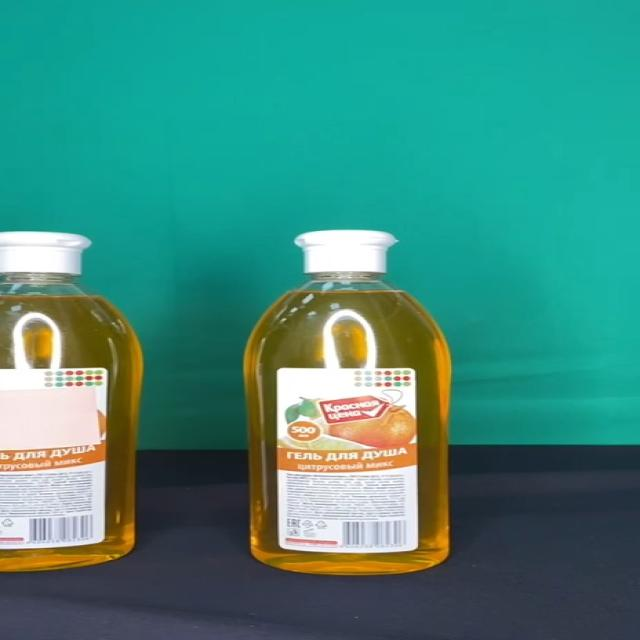Bottle: (241, 230, 454, 575)
Cap: (292, 231, 398, 274)
